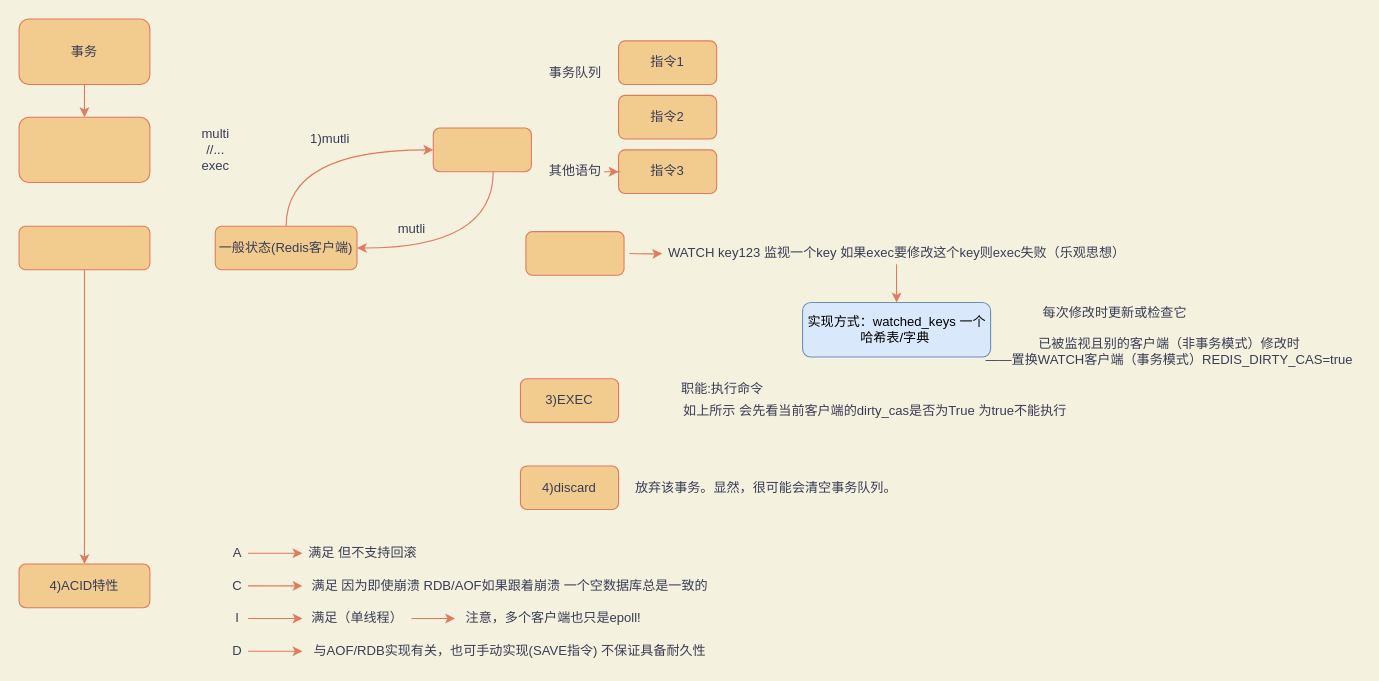
Some shapes in this 1379 by 681 pixel diagram are drawn without their labels. The centre of each missing label's shape, as x and y in pixels:
"2)WATCH" belongs at [574,253].
"事务状态" belongs at [481,149].
"实现" belongs at [84,247].
"指令" belongs at [84,149].
